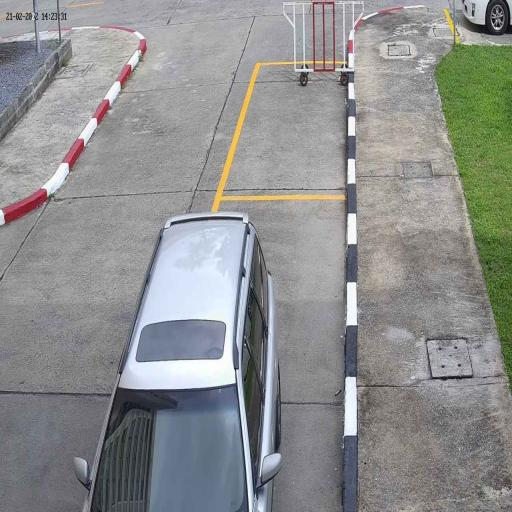car: (73, 213, 283, 512)
